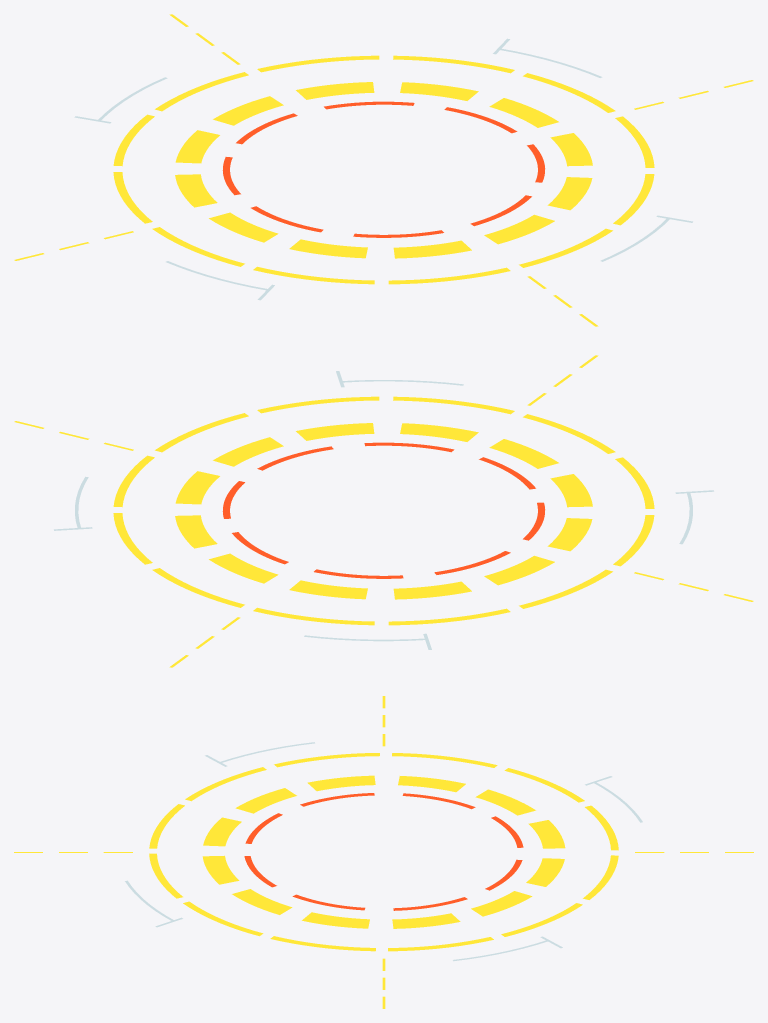
Rendered from SM_VR_AlarmRing.fbx.
The picture shows the model from 3 angles, top to bottom: view 1: azimuth 30°, elevation 25°; view 2: azimuth 150°, elevation 25°; view 3: azimuth 270°, elevation 25°; orthographic projection. The views are drawn at different scales.
Parts seen in each view (by area): view 1: SM_VR_AlarmRing; view 2: SM_VR_AlarmRing; view 3: SM_VR_AlarmRing.
Part boxes in pixels (x1,y1,x2,y2): SM_VR_AlarmRing: [14, 14, 753, 326]; SM_VR_AlarmRing: [14, 355, 753, 667]; SM_VR_AlarmRing: [14, 696, 753, 1008].
Size of the model in its own units: 330 by 330 by 0.4.
